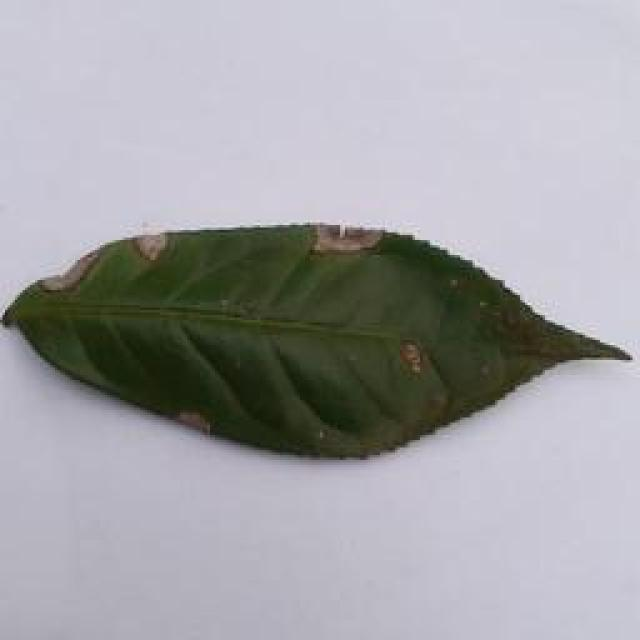Gray Blight: (0, 202, 638, 470)
